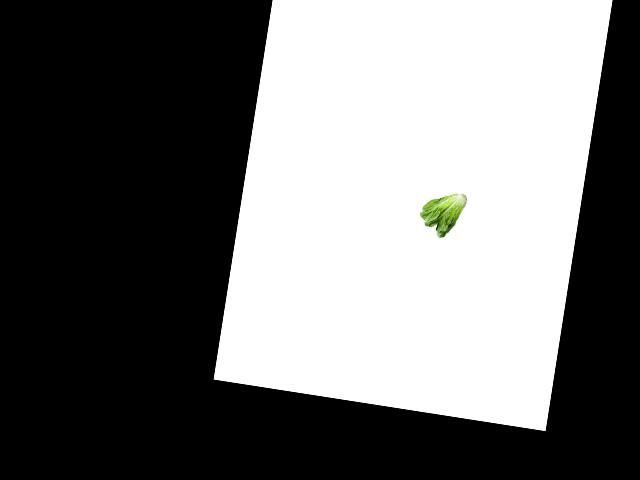lettuce: (410, 185, 468, 240)
